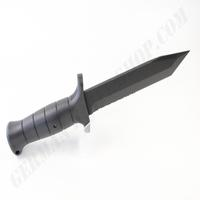knife: (5, 42, 194, 163)
